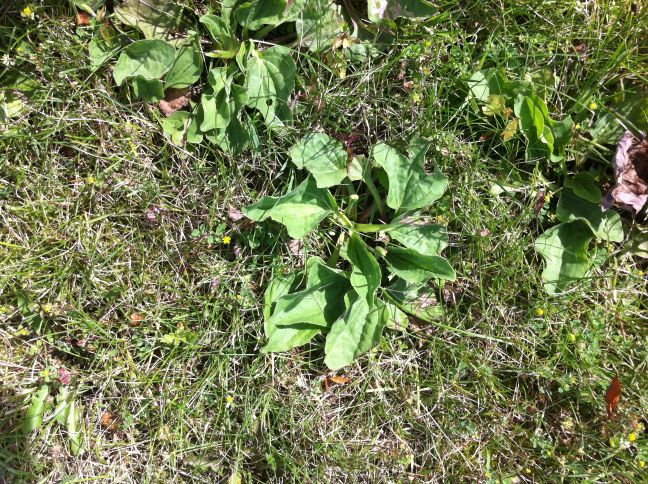weed1: (246, 125, 457, 373), (486, 70, 648, 299), (98, 1, 319, 147)
